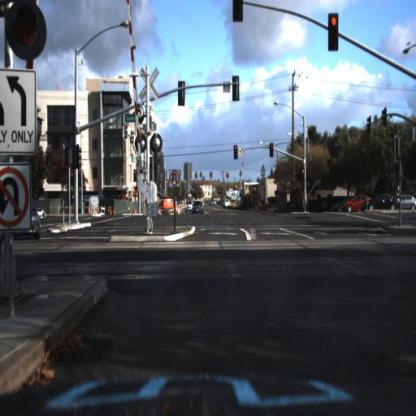car: (13, 201, 42, 245), (363, 192, 406, 215), (366, 189, 401, 215), (345, 193, 375, 216), (340, 192, 365, 215), (329, 196, 355, 212), (401, 190, 416, 211), (31, 209, 41, 240), (191, 201, 205, 222), (39, 207, 49, 226), (184, 202, 193, 222), (222, 196, 233, 211)
trafficLight: (5, 1, 47, 61), (233, 1, 244, 22)
trafficLight-Red: (328, 11, 340, 58), (300, 162, 308, 184), (232, 142, 240, 163), (270, 140, 275, 162)
